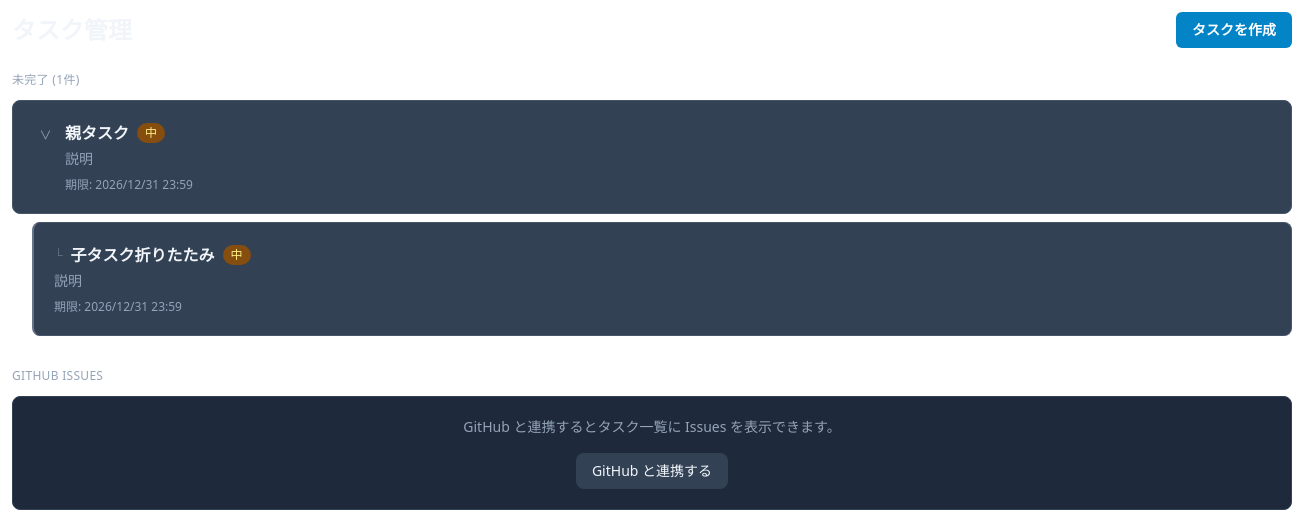
Scenario: TaskListPage › 子タスクトグル表示機能 › トグルボタンをクリックすると子タスクが非表示になる
The image size is (1304, 527).
Expected: the heading "子タスク折りたたみ" is shown, [70,243,214,267]
Click the button named "子タスクの表示切り替え".
click(45, 135)  # box [33,123,57,147]
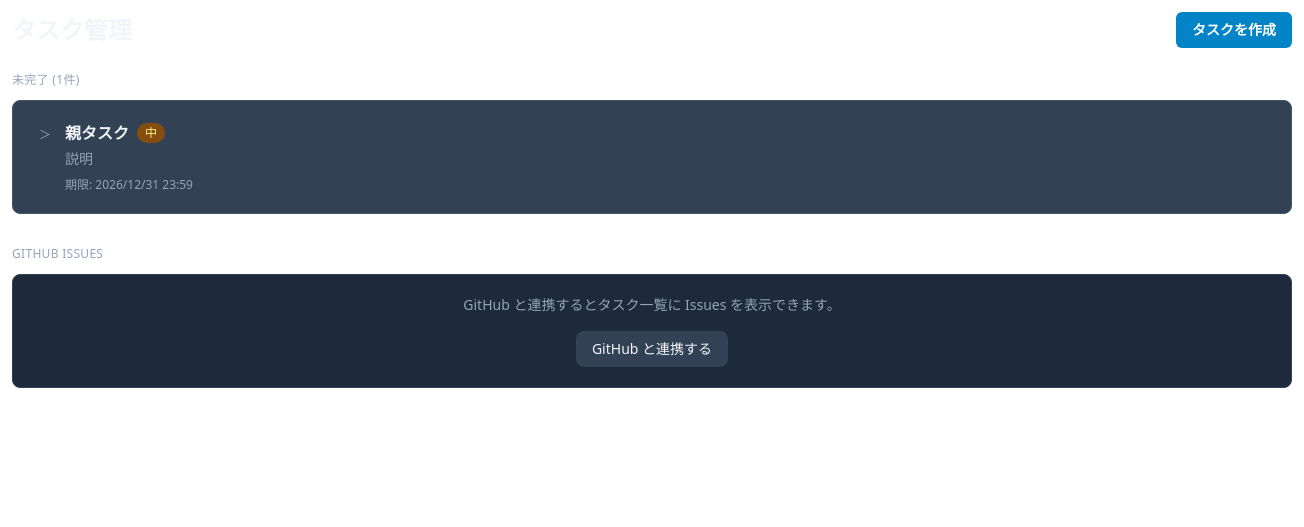
Now the heading "子タスク折りたたみ" is gone
